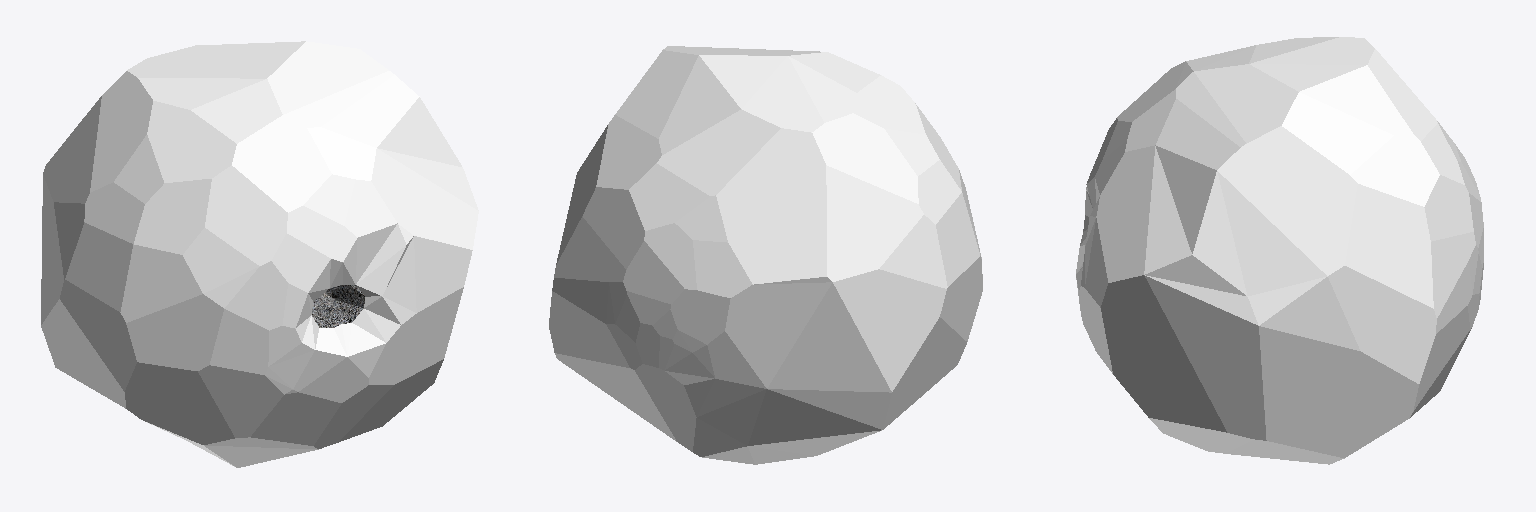
3 renders of one model, left to right at view 1: azimuth 30°, elevation 25°; view 2: azimuth 150°, elevation 25°; view 3: azimuth 270°, elevation 25°, orthographic.
Parts seen in each view (by area): view 1: jaguar_company_base, jaguar_company_base_bay; view 2: jaguar_company_base; view 3: jaguar_company_base.
Boxes of the visible parts, <box> form: jaguar_company_base: <box>41,41,478,467</box>; jaguar_company_base_bay: <box>312,285,364,327</box>; jaguar_company_base: <box>549,46,982,464</box>; jaguar_company_base: <box>1076,37,1483,464</box>.
Size of the model in its own units: 1241 by 1236 by 1184.
Materials: 2 (1 with a texture image).